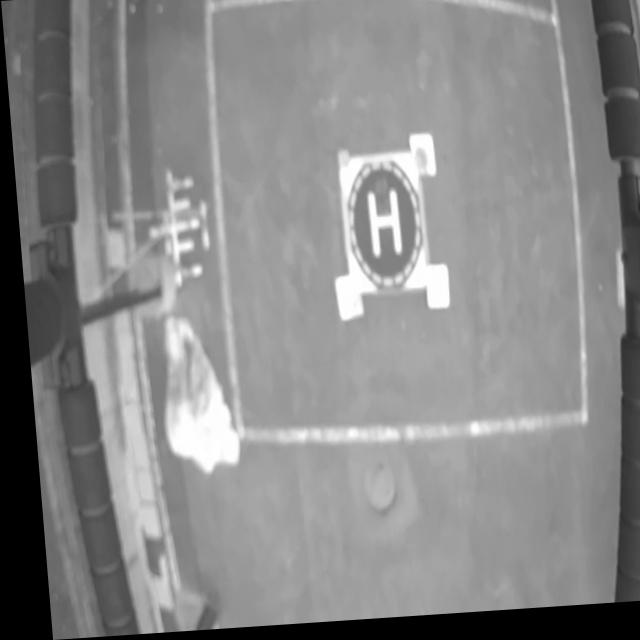Helipad: (361, 191, 397, 260)
